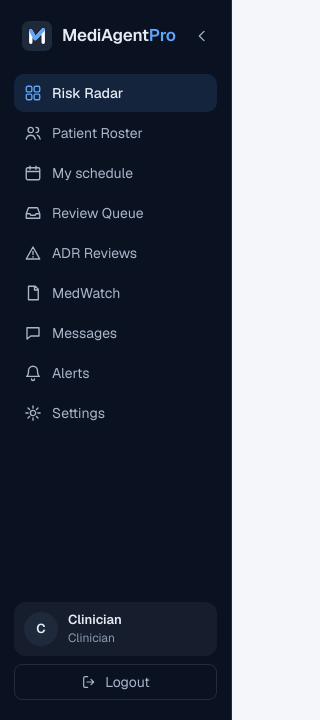
Test: Sidebar › collapses to an icon rail that keeps accessible labels and remembers the choice
Click the button named "Collapse sidebar".
click(202, 36)  # box [186, 20, 218, 52]
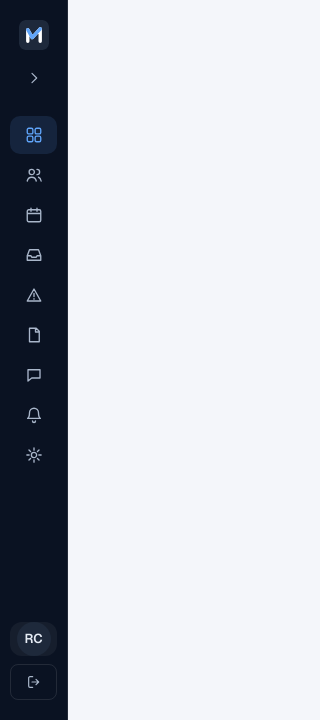
Result: the button named "Expand sidebar" is collapsed
Click the button named "Expand sidebar".
click(34, 78)  # box [18, 62, 50, 94]
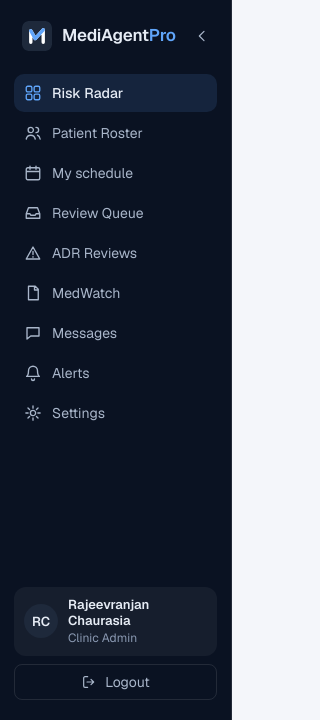
Result: the button named "Collapse sidebar" is shown at [186, 20, 218, 52]
